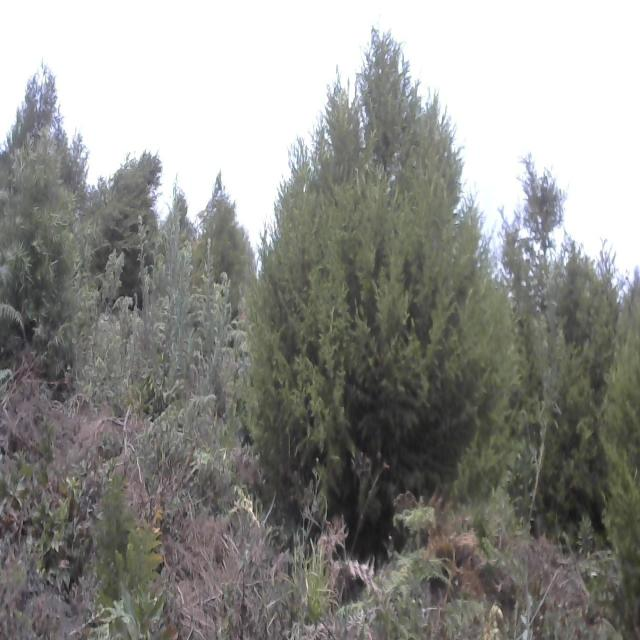Juniperus procesera: (246, 55, 486, 542)
Podocarpus falcatus: (1, 120, 85, 364)
